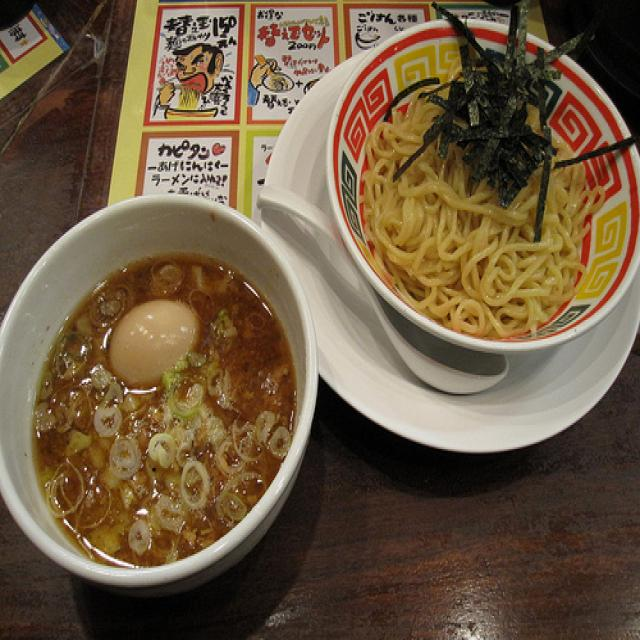面条主食: (27, 60, 619, 568)
